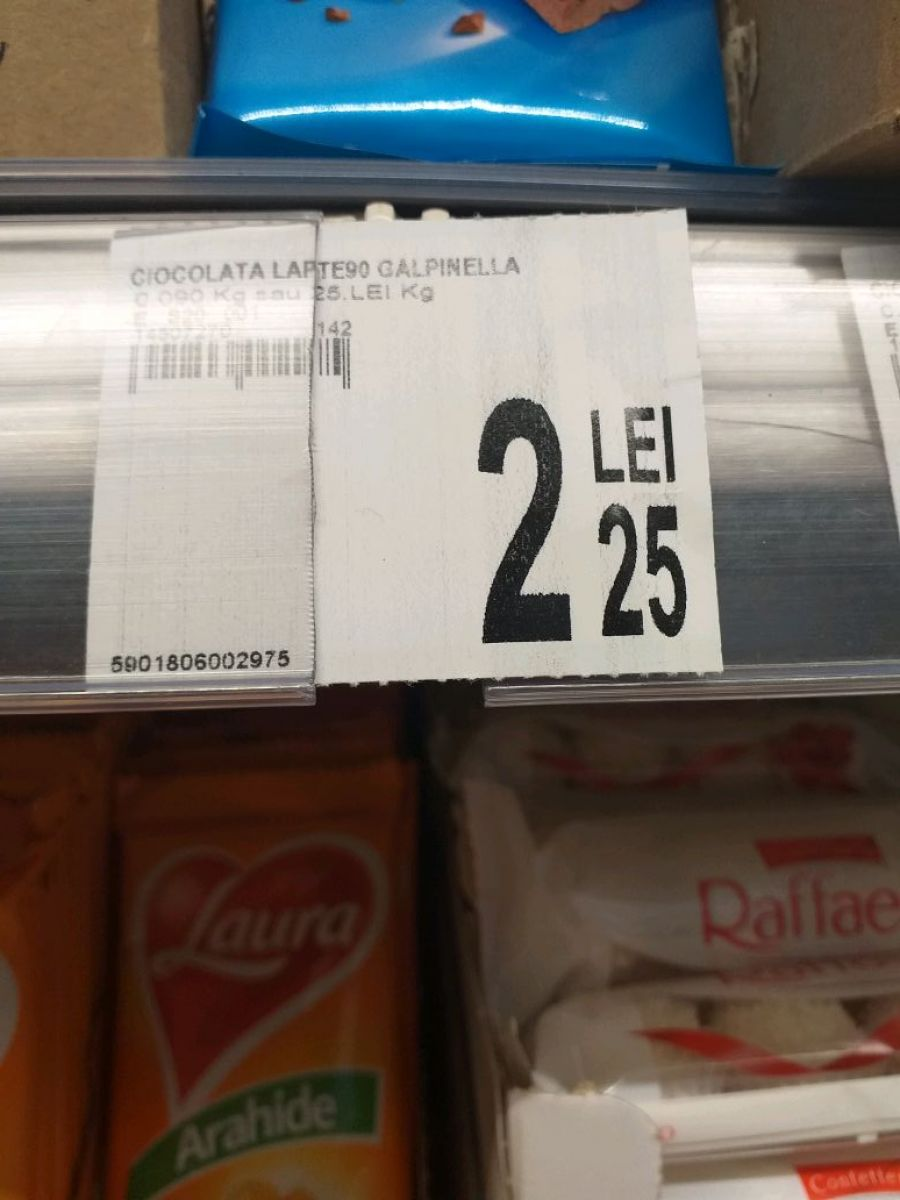price_bani: (585, 496, 697, 644)
price_lei: (440, 380, 584, 653)
price_tag: (62, 186, 742, 711)
product_id: (109, 641, 296, 678)
product_name: (119, 244, 550, 288)
